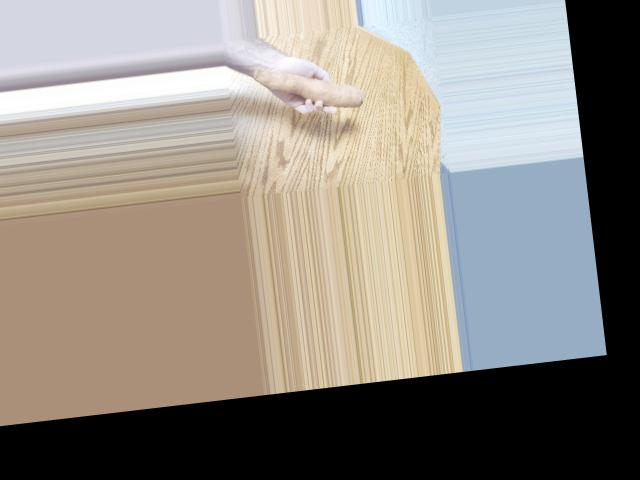sweet_potato: (255, 56, 366, 120)
